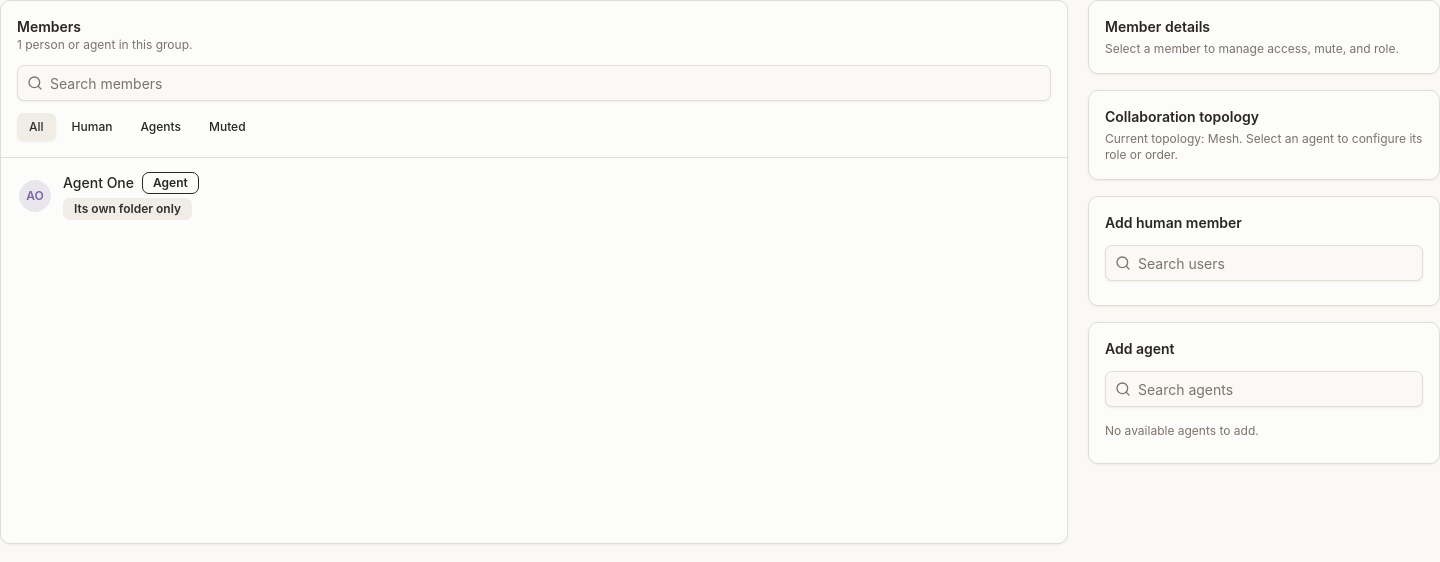
Scenario: group management i18n › resolves plain paths to the agent folder when the agent is isolated
Click the button "AO Agent One Agent Its own folder only": (35, 196) top-left (7, 162), bottom-right (1061, 230)
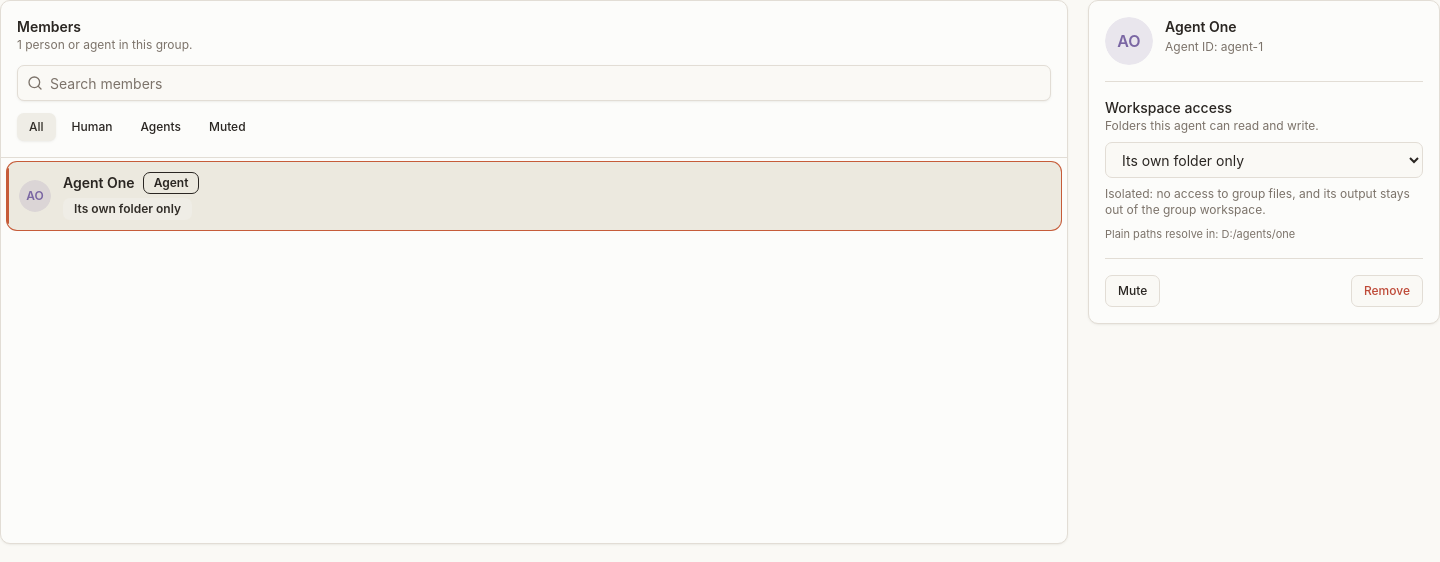
Now the text "Plain paths resolve in: D:/agents/one" is shown, box top-left (1105, 227), bottom-right (1295, 241)
Now the text "Isolated: no access to group files, and its output stays out of the group workspace." is shown, box top-left (1105, 186), bottom-right (1410, 217)
